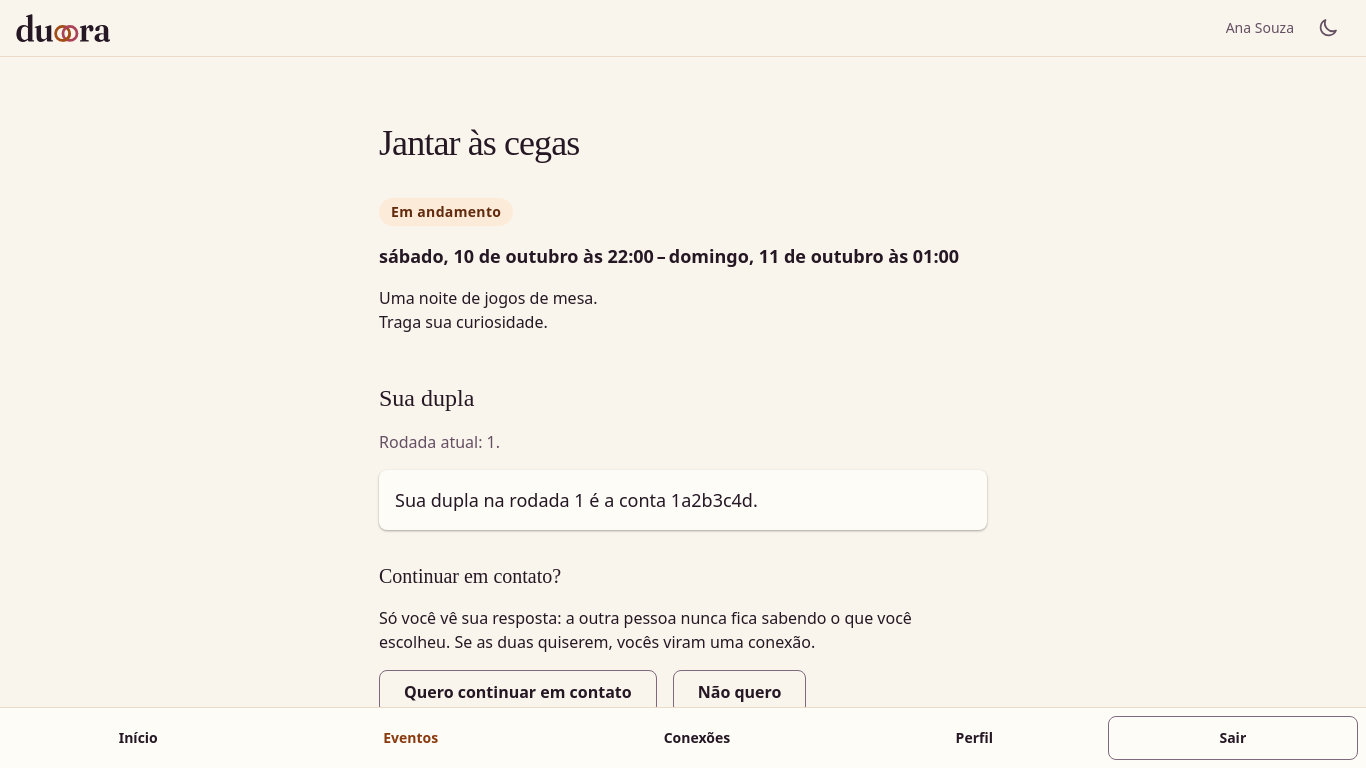
it: private decision after a round › records "Não quero" and shows the own decision
Expected: the text "Sua dupla na rodada 1 é a conta 1a2b3c4d." is shown, [379,470,987,530]
Click the button "Não quero" at (740, 692), box [673,670,806,714]
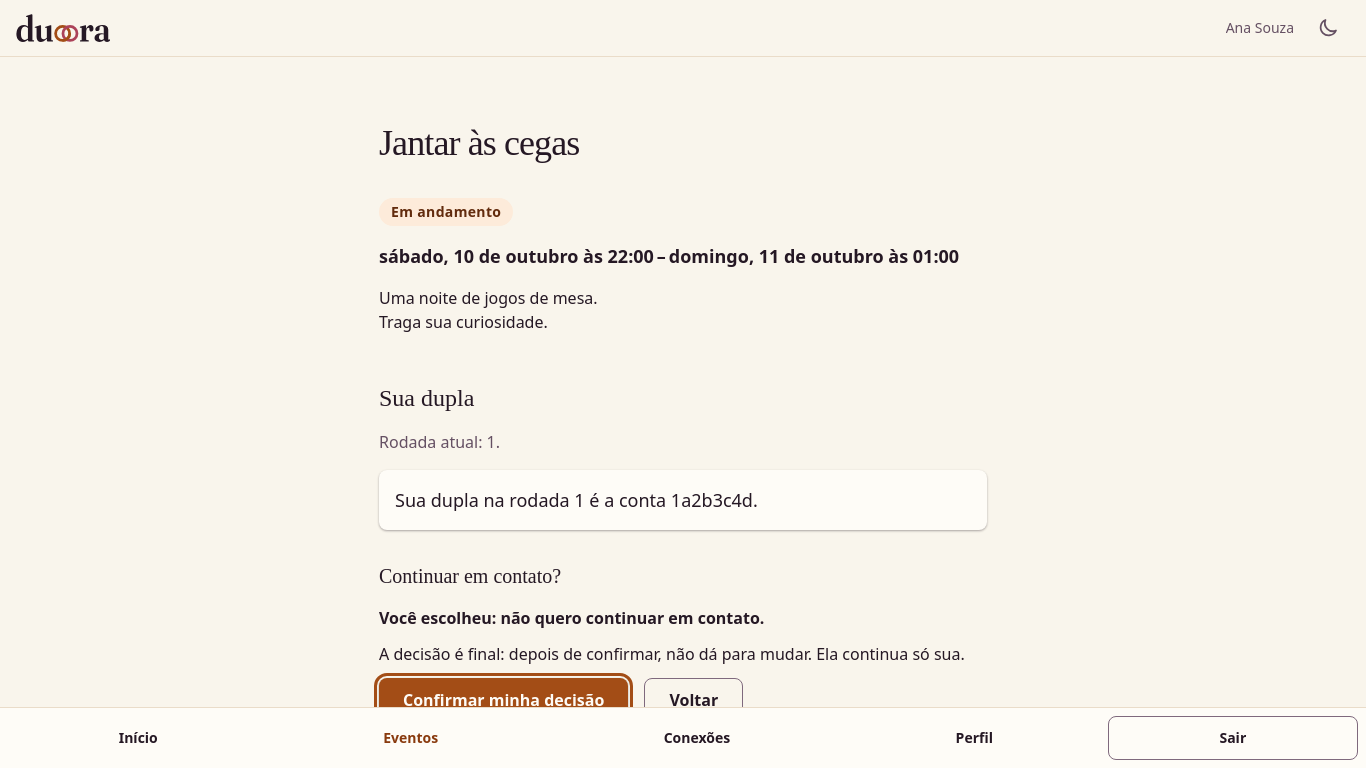
Click the button "Confirmar minha decisão" at (504, 700), box [379,678,628,722]
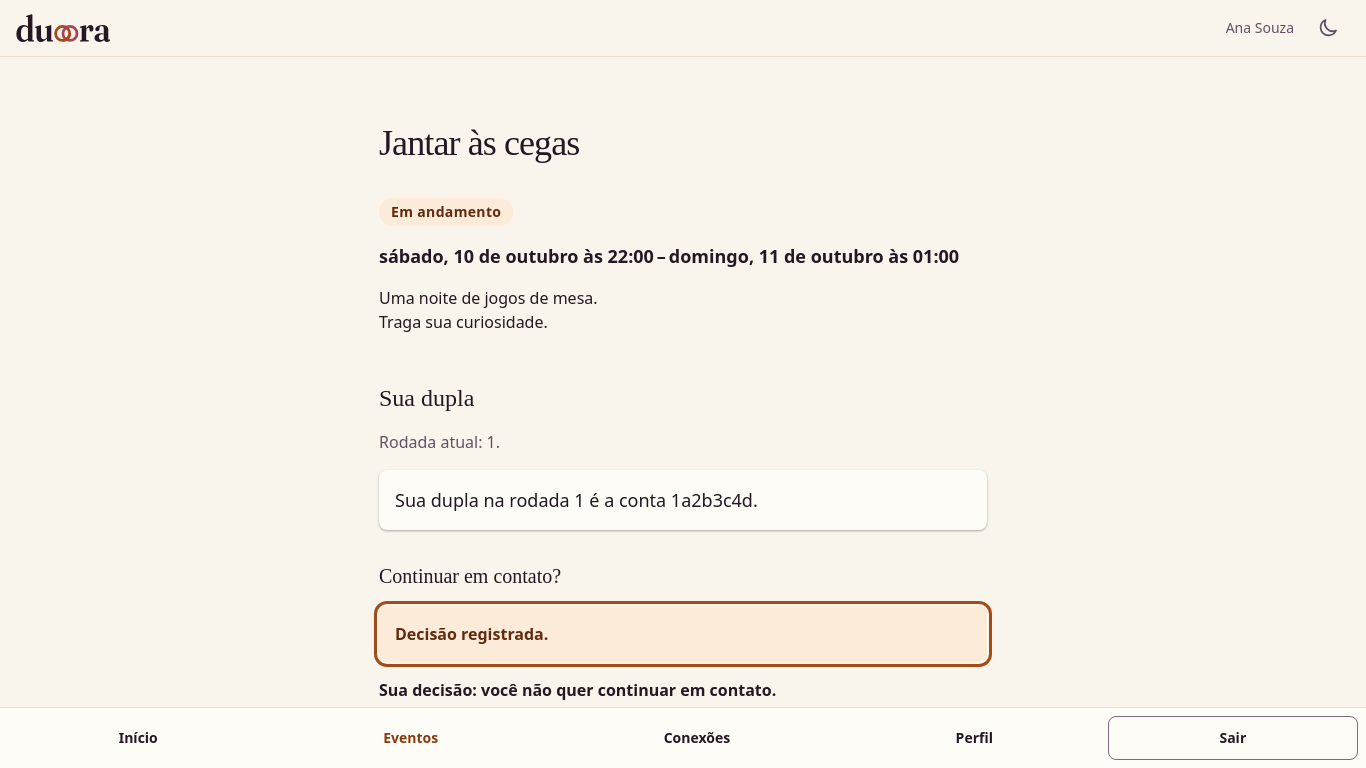
Expected: the message reads "Decisão registrada.", [395,623,548,645]
Expected: the text "Sua decisão: você não quer continuar em contato." is shown, [379,678,776,702]
Expected: the text "não quero" is gone
